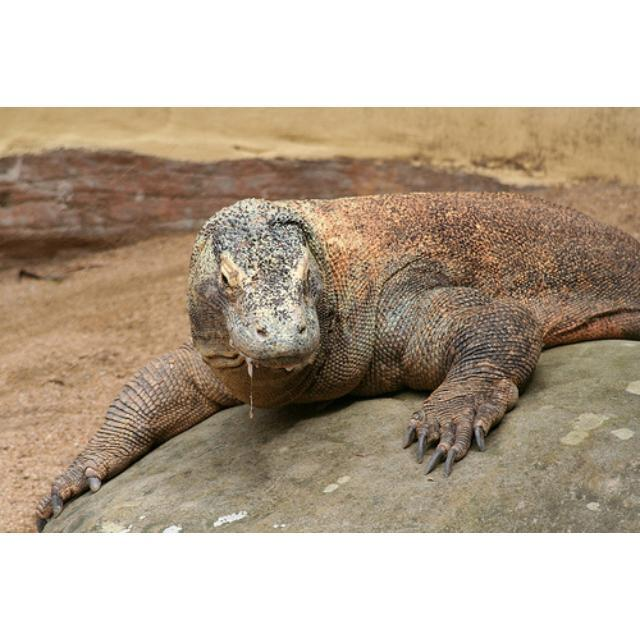KomodoDragon: (29, 184, 637, 530)
